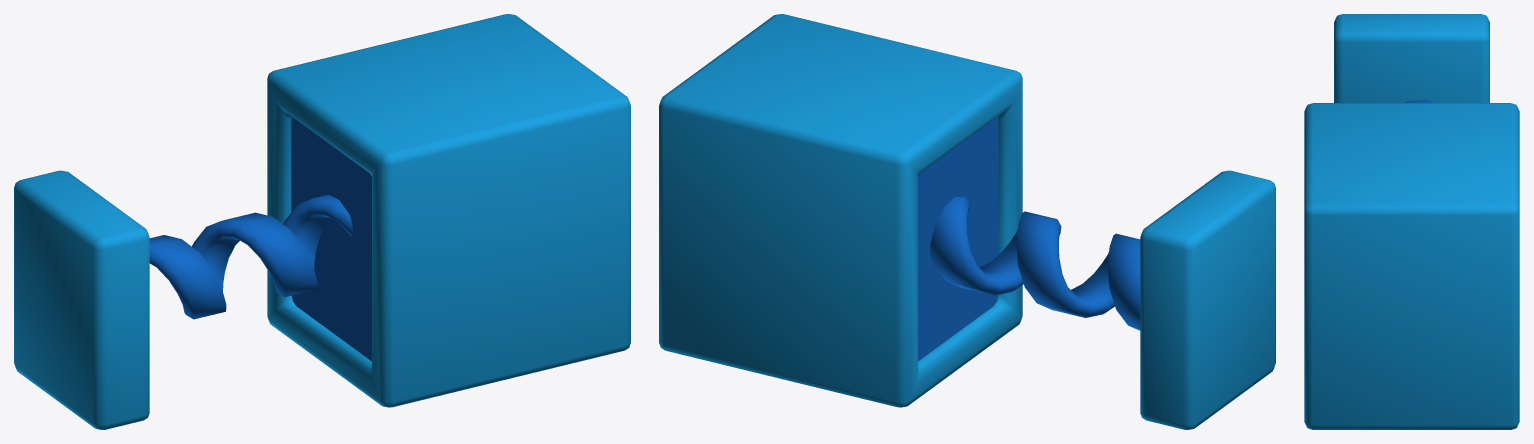
Rendered from spring_half_blue.fbx.
3 views of the same model, side by side, from view 1: azimuth 30°, elevation 25°; view 2: azimuth 150°, elevation 25°; view 3: azimuth 270°, elevation 25° (orthographic). The views are drawn at different scales.
Parts seen in each view (by area): view 1: spring_half_blue_main, spring_half_blue_serve; view 2: spring_half_blue_main, spring_half_blue_serve; view 3: spring_half_blue_main, spring_half_blue_serve.
Boxes of the visible parts, left/top/right/bottom form: spring_half_blue_main: left=267, top=14, right=630, bottom=407; spring_half_blue_serve: left=14, top=170, right=353, bottom=429; spring_half_blue_main: left=659, top=14, right=1022, bottom=407; spring_half_blue_serve: left=930, top=170, right=1275, bottom=429; spring_half_blue_main: left=1304, top=103, right=1519, bottom=429; spring_half_blue_serve: left=1334, top=14, right=1489, bottom=102.
Size of the model in its own units: 0.5 by 0.2341 by 0.2024.
